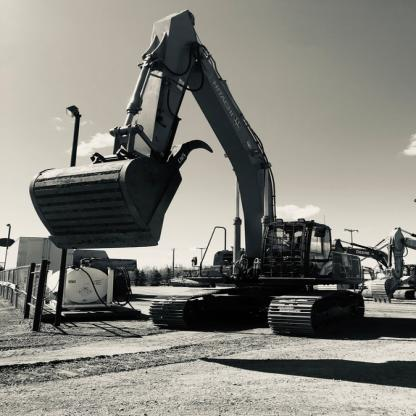excavator: (39, 8, 391, 351)
